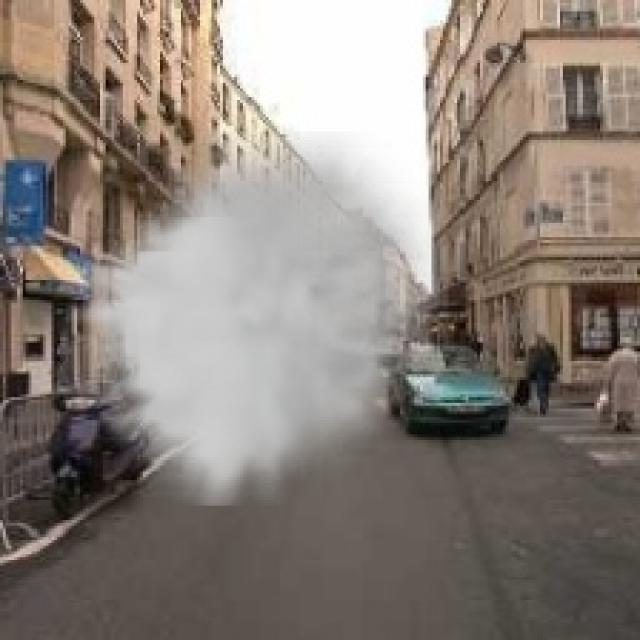smoke: (66, 131, 448, 506)
